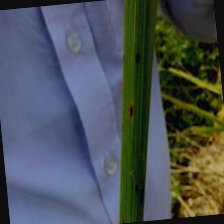Bacterial_Leaf_Blight: (135, 179, 145, 204), (126, 99, 136, 122), (132, 48, 144, 67)
